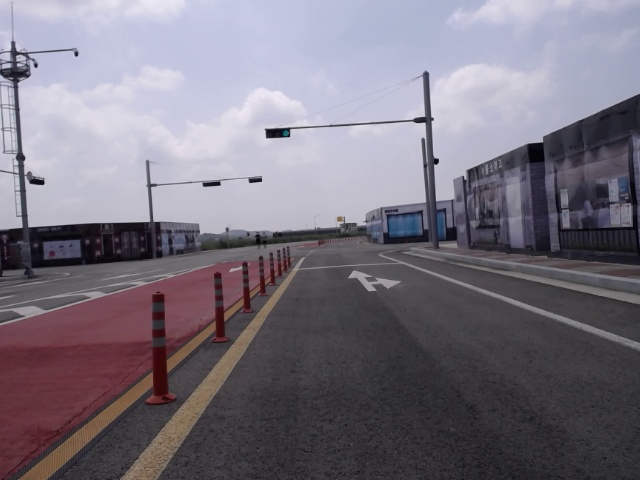green_3: (265, 128, 291, 138)
